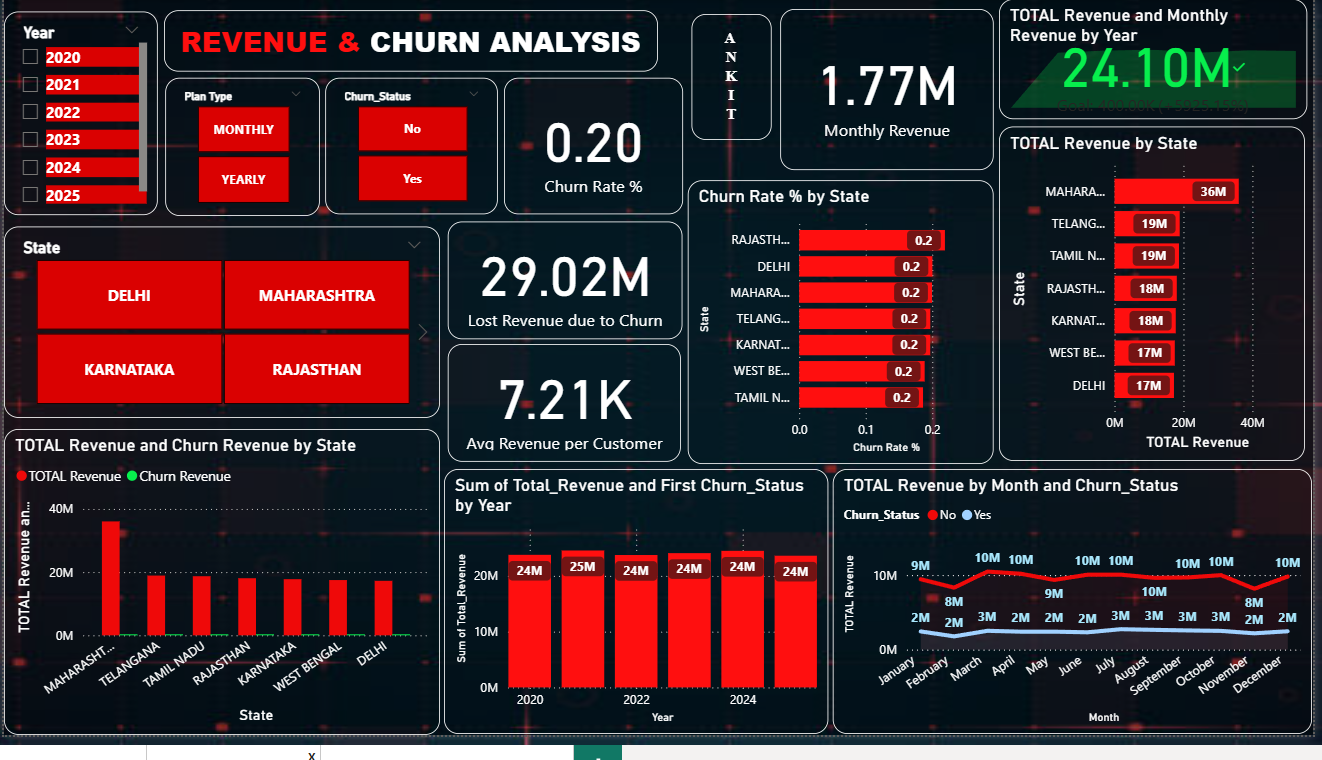

This screenshot's page, from the dashboard's own definition file:
{"tool":"powerbi","page":{"name":"CHURN ANALYSIS","canvas":[1280,720],"ordinal":1},"visuals":[{"type":"card","fields":{"Values":["Subscriptions.Lost Revenue due to Churn"]},"box":[434.2,217.1,229.5,115.4],"z":0},{"type":"card","fields":{"Values":["Subscriptions.Churn Rate %"]},"box":[488.8,76.9,174.9,134],"z":1000},{"type":"barChart","fields":{"Category":["Customers.State"],"Y":["Subscriptions.Churn Rate %"]},"box":[668.7,177.4,299,277.9],"z":2000},{"type":"lineChart","fields":{"Category":["Customers.Join_Date.Variation.Date Hierarchy.Month"],"Y":["Subscriptions.TOTAL Revenue"],"Series":["Customers.Churn_Status"]},"box":[811.3,460.2,468.9,259.3],"z":3000},{"type":"advancedSlicerVisual","fields":{"Values":["Customers.State"]},"box":[0,222.6,426.8,187.1],"z":4000},{"type":"advancedSlicerVisual","fields":{"Values":["Customers.Churn_Status"]},"box":[313.9,76.9,168.7,134],"z":5000},{"type":"advancedSlicerVisual","fields":{"Values":["Subscriptions.Start_Date.Variation.Date Hierarchy.Year"]},"box":[0,12.2,150.4,199.3],"z":6000},{"type":"advancedSlicerVisual","fields":{"Values":["Subscriptions.Plan_Type"]},"box":[157.6,76.9,151.3,135.2],"z":7000},{"type":"textbox","box":[156.3,10.4,483.2,59.9],"z":8000},{"type":"textbox","box":[672.6,14.7,78.3,123.5],"z":9000},{"type":"kpi","fields":{"TrendLine":["Customers.Join_Date.Variation.Date Hierarchy.Year"],"Indicator":["Subscriptions.TOTAL Revenue"],"Goal":["Subscriptions.Monthly Revenue"]},"box":[973.8,0,301.5,117.9],"z":10000},{"type":"card","fields":{"Values":["Subscriptions.Monthly Revenue"]},"box":[759.2,9.9,208.4,157.6],"z":11000},{"type":"card","fields":{"Values":["Subscriptions.Avg Revenue per Customer"]},"box":[434.2,337.4,228.3,115.4],"z":12000},{"type":"clusteredColumnChart","fields":{"Y":["Sum(Subscriptions.Total_Revenue)"],"Category":["Subscriptions.Start_Date.Variation.Date Hierarchy.Year"]},"box":[430.5,460.2,375.9,259.3],"z":13000},{"type":"barChart","fields":{"Category":["Customers.State"],"Y":["Subscriptions.TOTAL Revenue"]},"box":[973.8,125.3,299,327.5],"z":14000},{"type":"clusteredColumnChart","fields":{"Y":["Subscriptions.TOTAL Revenue","Subscriptions.Churn Revenue"],"Category":["Customers.State"]},"box":[0,420.5,426.8,299],"z":15000}]}

Visuals, with their boxes in screenshot pixels (x1, y1, x2, y2), scaled from the page's 1280x720 canvas onto the 1322x760 screenshot:
card - Subscriptions.Lost Revenue due to Churn: (448, 229, 685, 351)
card - Subscriptions.Churn Rate %: (505, 81, 685, 223)
barChart - Customers.State x Subscriptions.Churn Rate %: (691, 187, 999, 481)
lineChart - Customers.Join_Date.Variation.Date Hierarchy.Month x Subscriptions.TOTAL Revenue: (838, 486, 1321, 759)
advancedSlicerVisual - Customers.State: (0, 235, 441, 432)
advancedSlicerVisual - Customers.Churn_Status: (324, 81, 498, 223)
advancedSlicerVisual - Subscriptions.Start_Date.Variation.Date Hierarchy.Year: (0, 13, 155, 223)
advancedSlicerVisual - Subscriptions.Plan_Type: (163, 81, 319, 224)
textbox: (161, 11, 660, 74)
textbox: (695, 16, 776, 146)
kpi - Customers.Join_Date.Variation.Date Hierarchy.Year x Subscriptions.TOTAL Revenue: (1006, 0, 1317, 124)
card - Subscriptions.Monthly Revenue: (784, 10, 999, 177)
card - Subscriptions.Avg Revenue per Customer: (448, 356, 684, 478)
clusteredColumnChart - Sum(Subscriptions.Total_Revenue) x Subscriptions.Start_Date.Variation.Date Hierarchy.Year: (445, 486, 833, 759)
barChart - Customers.State x Subscriptions.TOTAL Revenue: (1006, 132, 1315, 478)
clusteredColumnChart - Subscriptions.TOTAL Revenue x Subscriptions.Churn Revenue: (0, 444, 441, 759)
